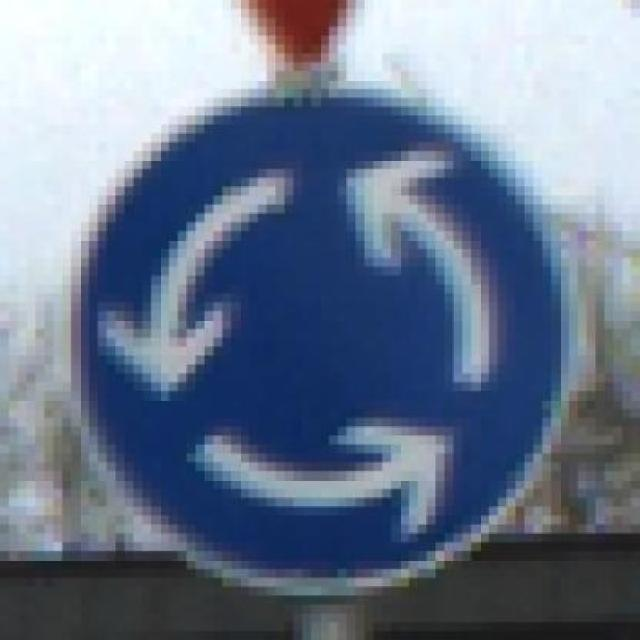Round-About: (44, 71, 614, 614)
